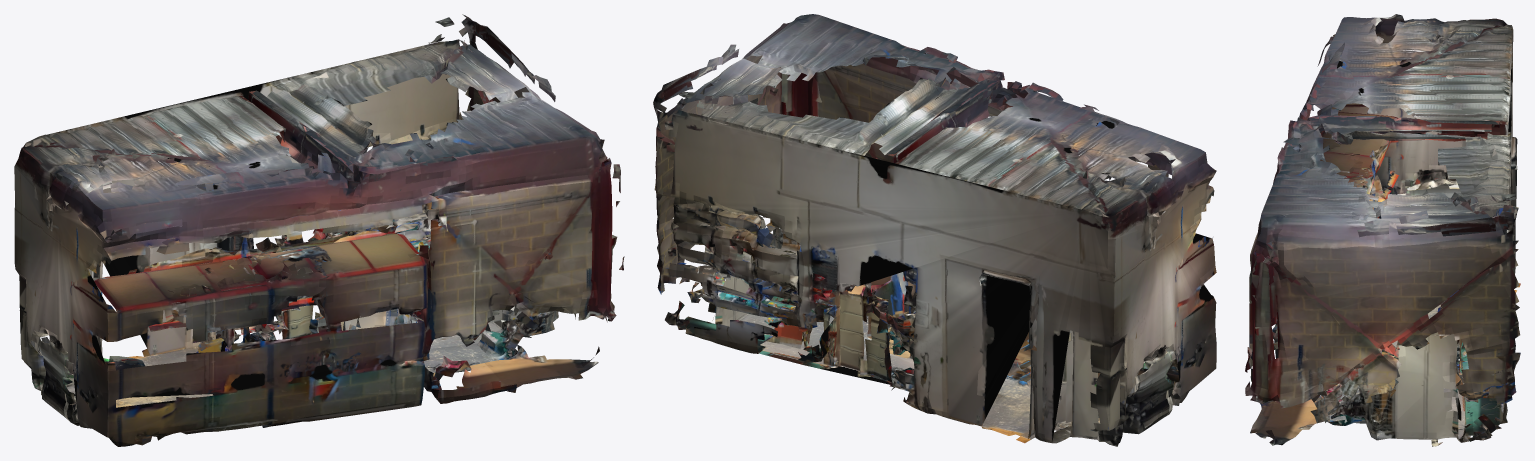
Rendered from TV_workshop-IM.fbx.
3 renders of one model, left to right at view 1: azimuth 30°, elevation 25°; view 2: azimuth 150°, elevation 25°; view 3: azimuth 270°, elevation 25°, orthographic. The views are drawn at different scales.
Visible parts, largest first — view 1: TV_workshop-IM; view 2: TV_workshop-IM; view 3: TV_workshop-IM.
Boxes of the visible parts, x1,y1,x2,y2 form: TV_workshop-IM: (14, 14, 624, 446); TV_workshop-IM: (653, 14, 1216, 446); TV_workshop-IM: (1245, 14, 1520, 446).
Size of the model in its own units: 848 by 449 by 453.
1 material, 1 textured.
